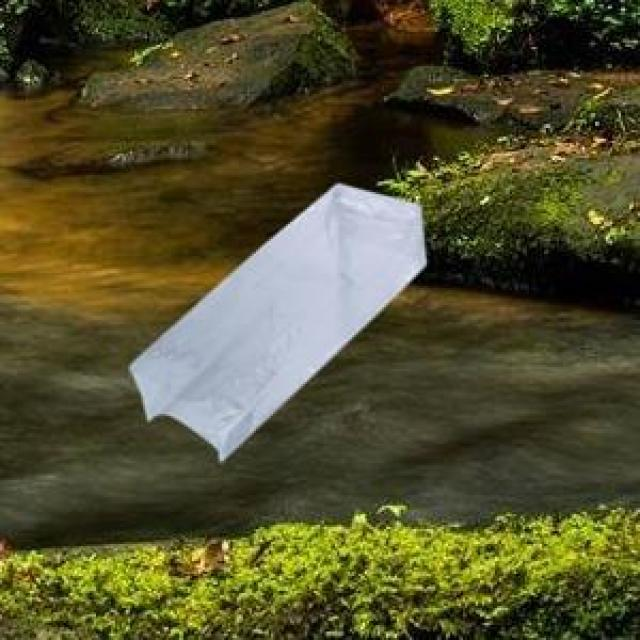plastic: (85, 144, 480, 485)
